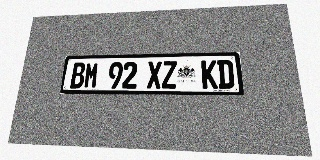2: (122, 61, 138, 88)
9: (108, 62, 123, 88)
B: (70, 62, 86, 88)
D: (217, 60, 235, 89)
K: (201, 60, 218, 89)
M: (83, 62, 99, 88)
X: (147, 61, 162, 88)
Z: (162, 61, 177, 89)
